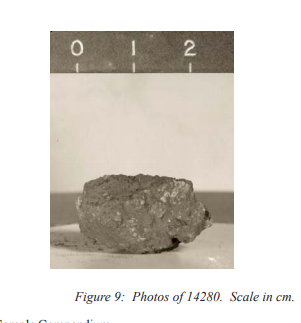Breccia: (65, 158, 222, 250)
